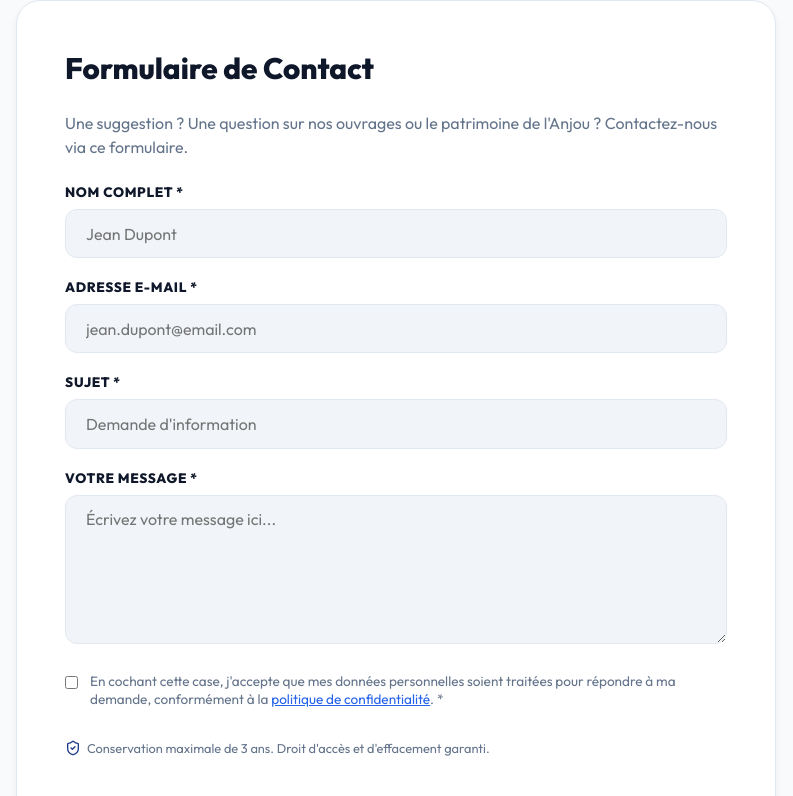
Test: ContactForm Component Tests › falls back to local storage when offline or firestore error occurs
The width and height of the screenshot is (793, 796).
Type "Jeremy Veille" into the field with placeholder "Jean Dupont" at coordinates (396, 234), box x1=65 y1=209 x2=727 y2=258
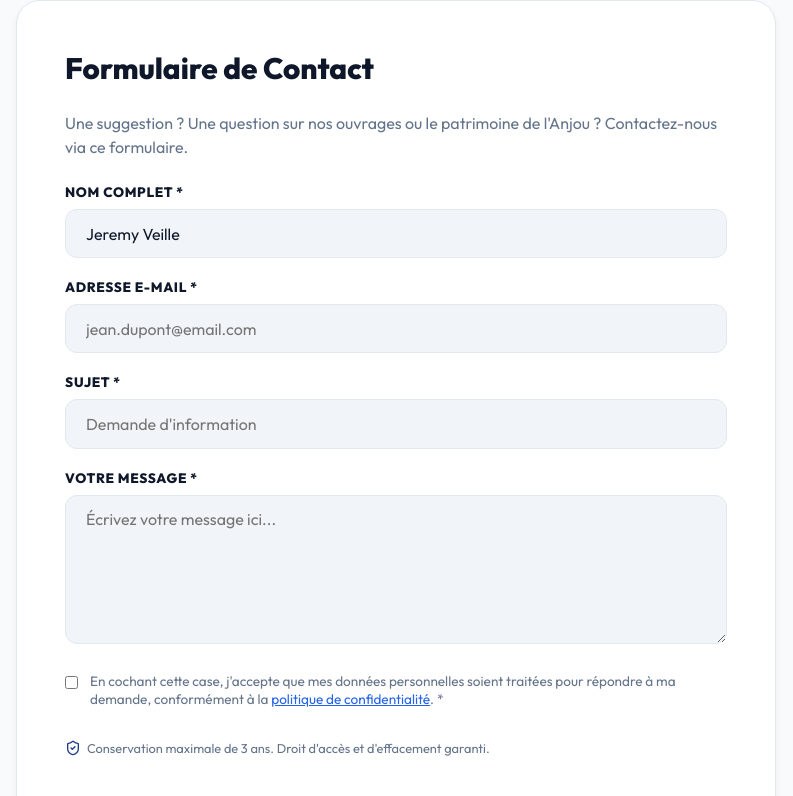
Type "jeremy@example.com" into the field with placeholder "jean.dupont@email.com" at coordinates (396, 329), box x1=65 y1=304 x2=727 y2=353
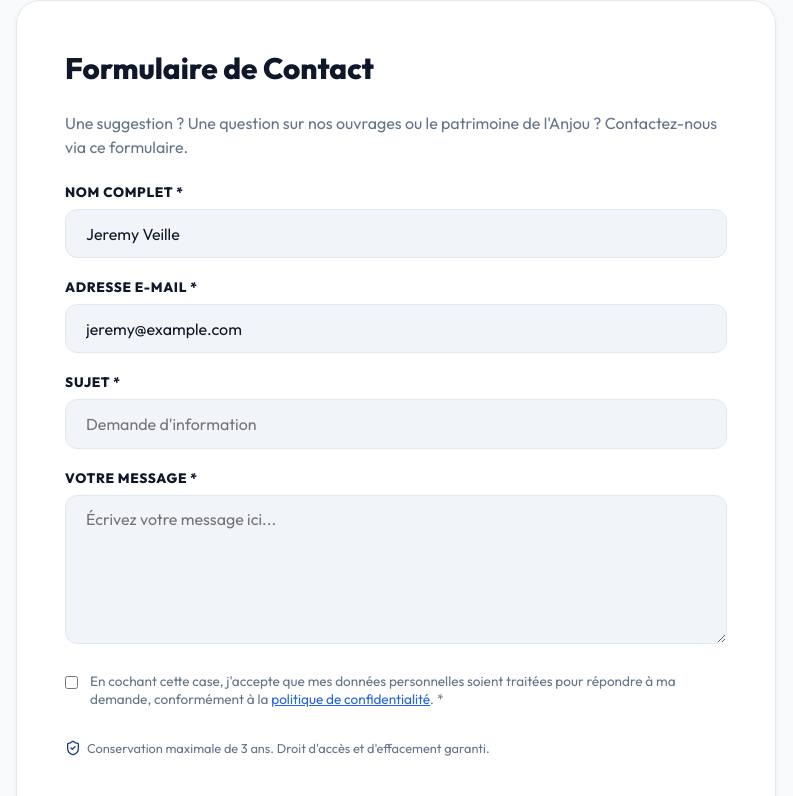
Type "Question livre" into the field with placeholder "Demande d'information" at coordinates (396, 424), box x1=65 y1=399 x2=727 y2=449
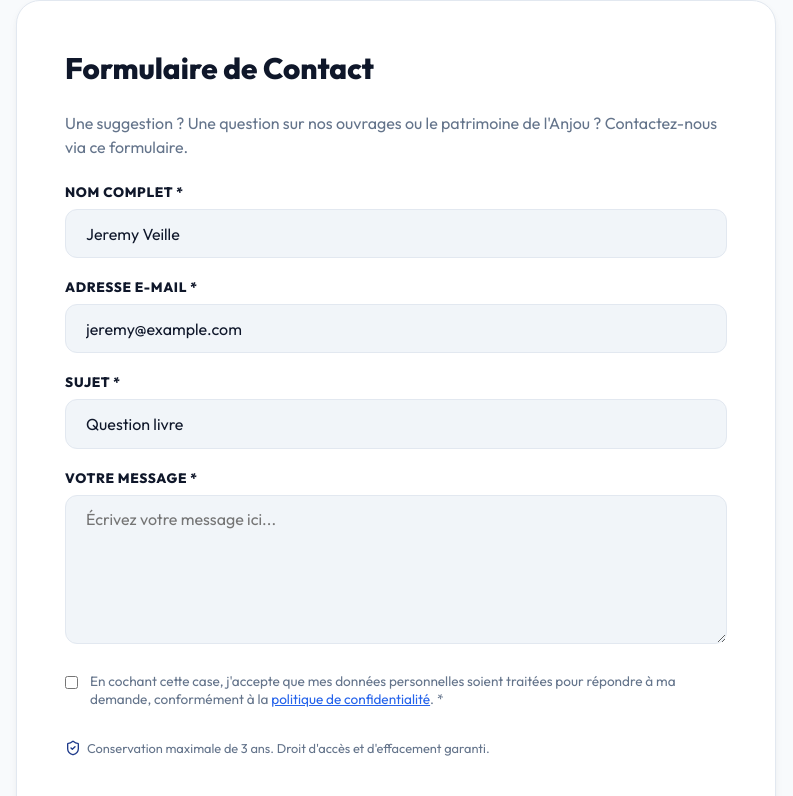
Type "Test message local." into the text box with placeholder "Écrivez votre message ici..." at coordinates (396, 569), box x1=65 y1=495 x2=727 y2=644
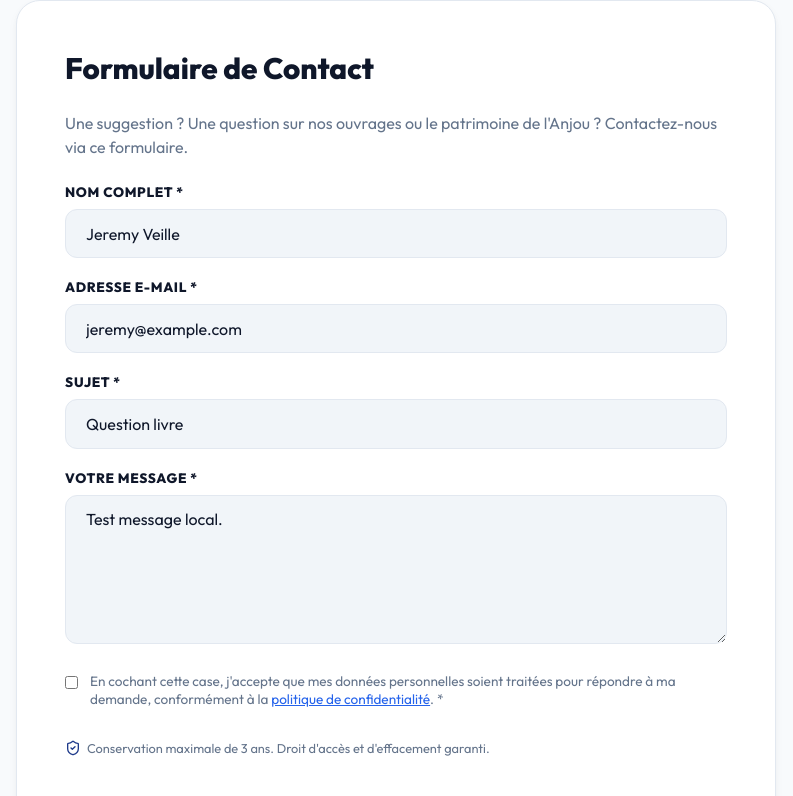
Click the checkbox at coordinates (72, 682), box x1=65 y1=676 x2=78 y2=689
(page scrolled)
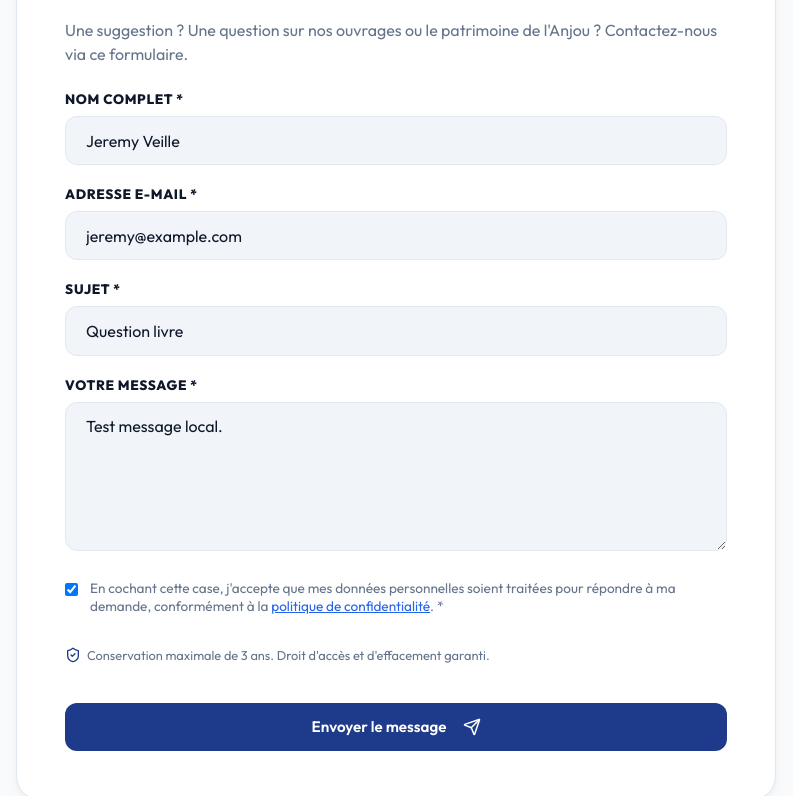
Click the button "Envoyer le message" at coordinates (396, 727), box x1=65 y1=703 x2=727 y2=751
(page scrolled)
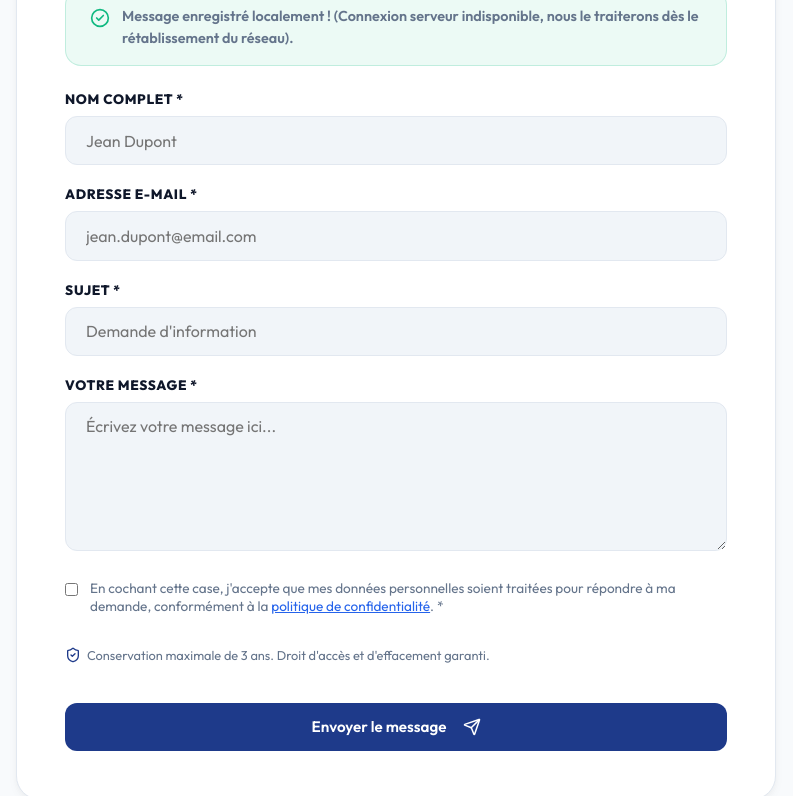
Expected: the text "Message enregistré localement" is shown, x1=122 y1=7 x2=699 y2=47
